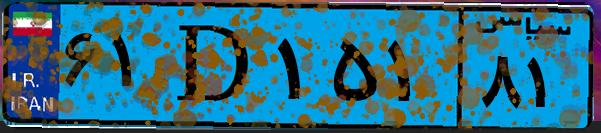1: (270, 28, 330, 110), (385, 28, 445, 110), (525, 38, 570, 115), (110, 28, 158, 98)
5: (330, 28, 385, 110)
6: (57, 26, 110, 100)
8: (475, 38, 525, 113)
D: (158, 12, 270, 120)
